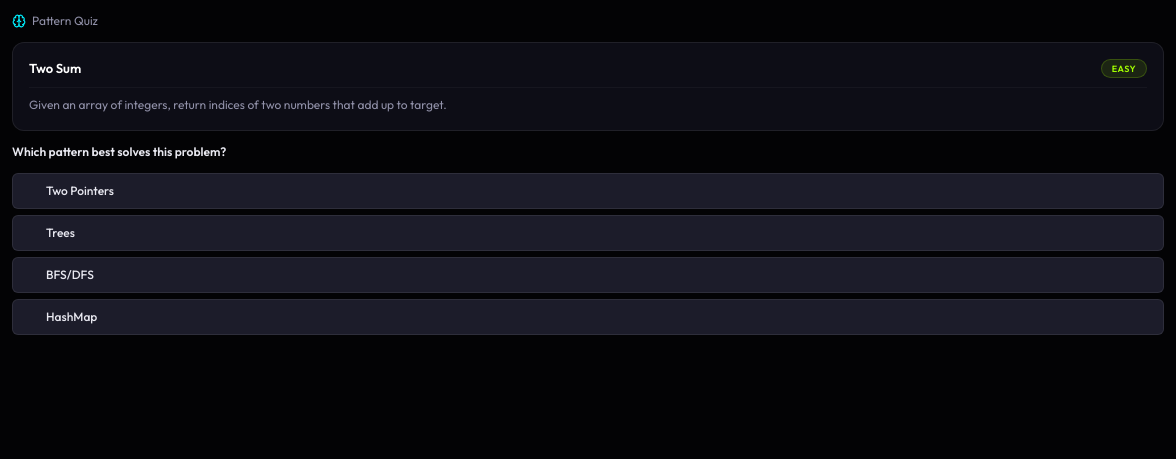
PatternQuizPanel › answering correctly › choice buttons are disabled after answering correctly
Click the button "HashMap": {"x": 72, "y": 316} [12,298,1164,334]
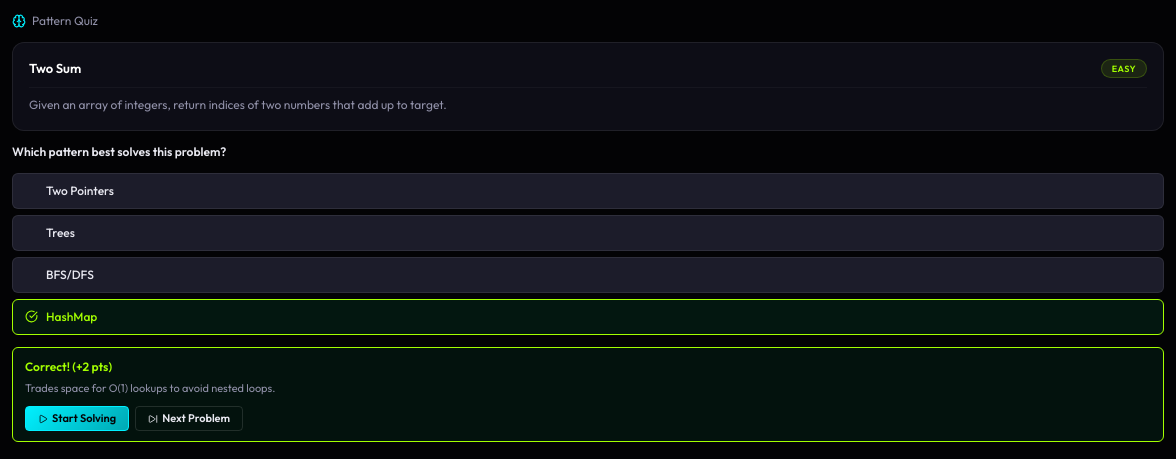
Now the button "HashMap" is disabled, box [12,298,1164,334]
